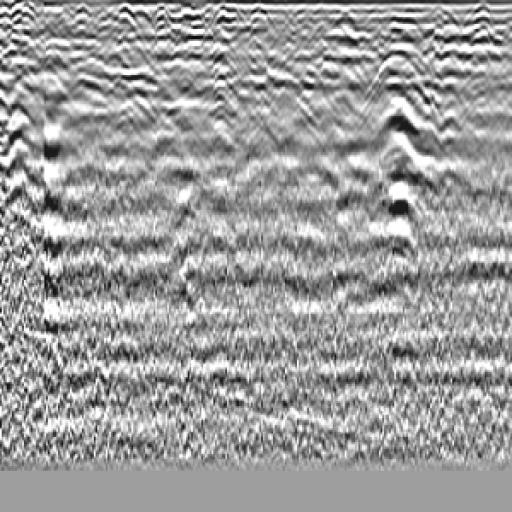metalic: (346, 33, 458, 250)
